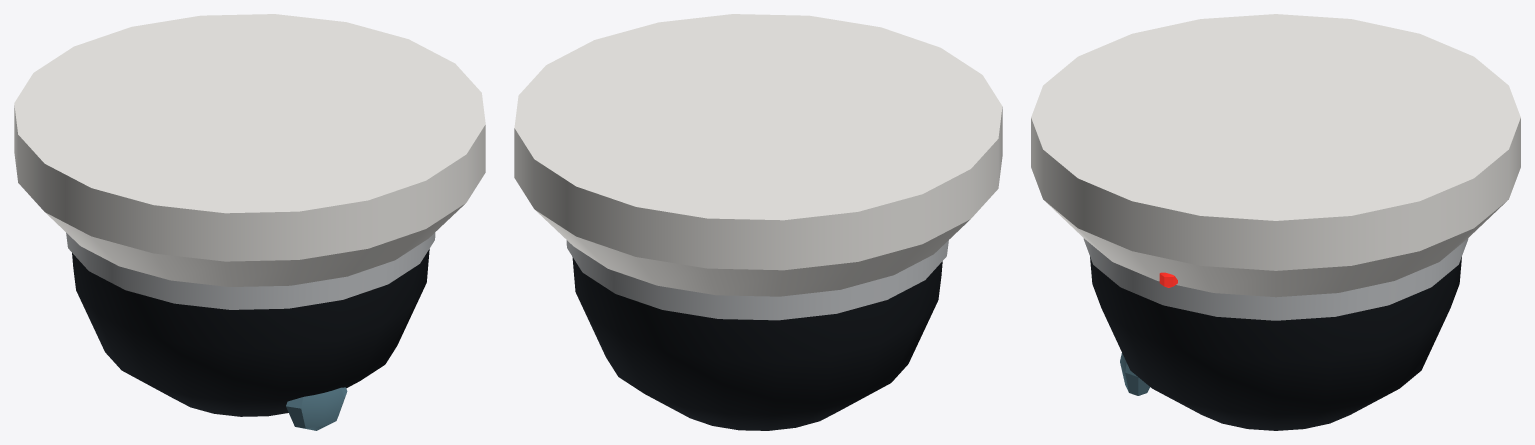
The model's file is SC_Fix_CCTV_Dome.gltf.
3 views of the same model, side by side, from view 1: azimuth 30°, elevation 25°; view 2: azimuth 150°, elevation 25°; view 3: azimuth 270°, elevation 25° (orthographic). The views are drawn at different scales.
Parts seen in each view (by area): view 1: SC_Fix_CCTV_Dome; view 2: SC_Fix_CCTV_Dome; view 3: SC_Fix_CCTV_Dome.
Part boxes in pixels (x1,y1,x2,y2): SC_Fix_CCTV_Dome: (14, 14, 485, 430); SC_Fix_CCTV_Dome: (514, 14, 1002, 430); SC_Fix_CCTV_Dome: (1031, 14, 1520, 430).
Size of the model in its own units: 0.16 by 0.104 by 0.16.
2 materials, 2 textured.
